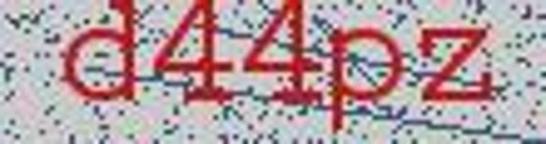4: (147, 1, 241, 113), (243, 1, 327, 114)
d: (59, 2, 141, 109)
p: (328, 16, 404, 141)
z: (414, 20, 499, 104)
